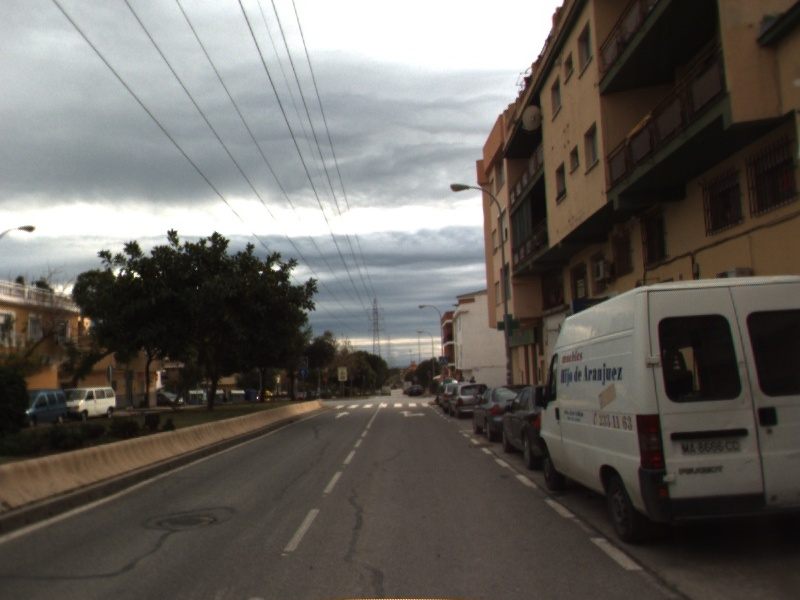STRAIGHT: (332, 409, 352, 421)
STRAIGHT_RIGHT: (398, 408, 427, 419)
